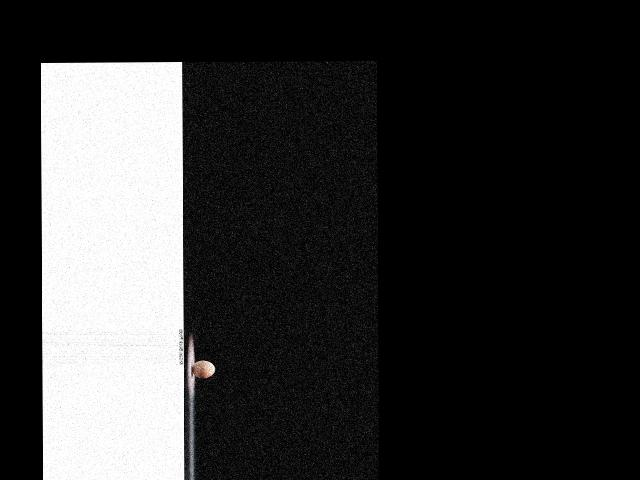egg: (191, 360, 214, 378)
